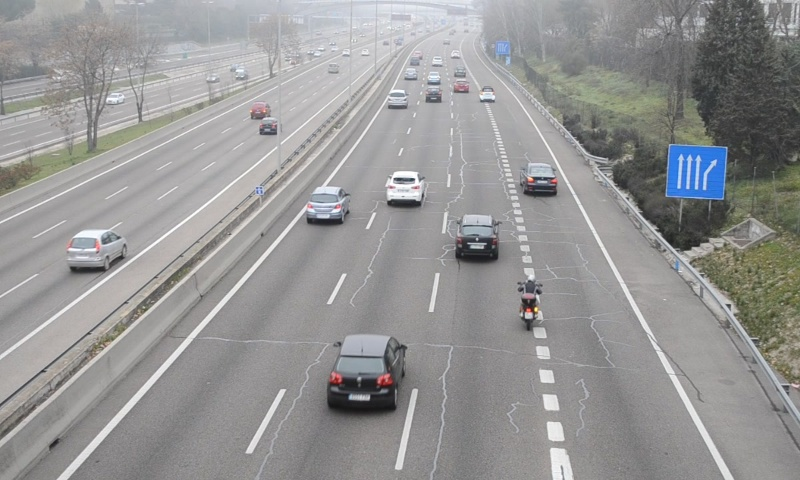car: (326, 335, 404, 407), (454, 214, 498, 258), (306, 186, 348, 222), (385, 171, 426, 203), (521, 163, 558, 193), (387, 88, 408, 109), (479, 85, 495, 103), (426, 86, 442, 103)
motorcycle: (516, 275, 543, 330)
